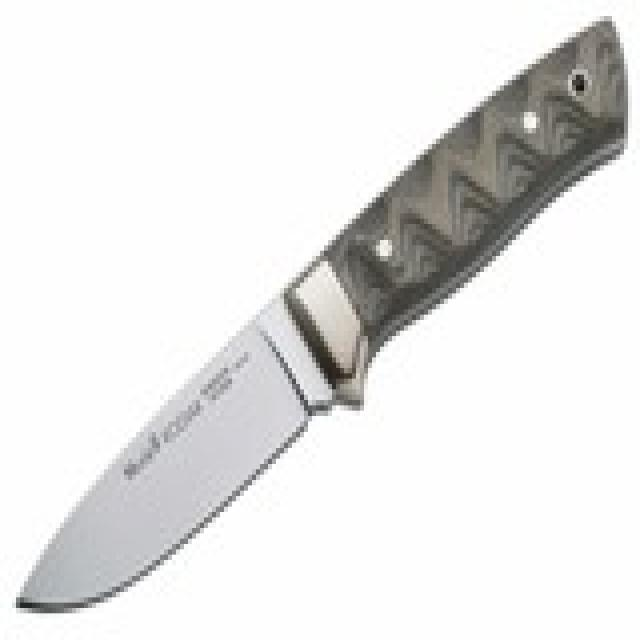Knife: (14, 18, 628, 627)
